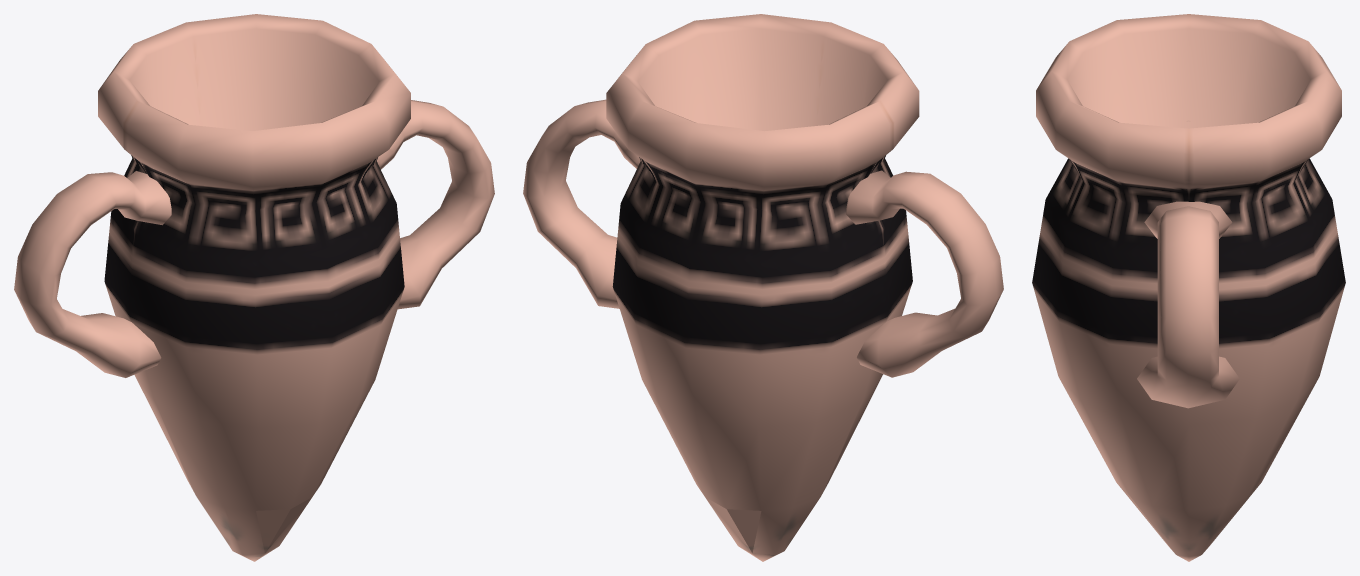
The model's file is prop_temple_jar3.fbx.
3 renders of one model, left to right at view 1: azimuth 30°, elevation 25°; view 2: azimuth 150°, elevation 25°; view 3: azimuth 270°, elevation 25°, orthographic.
Visible parts, largest first — view 1: jar3; view 2: jar3; view 3: jar3.
Boxes of the visible parts, x1=… form: jar3: x1=14, y1=14, x2=494, y2=561; jar3: x1=523, y1=14, x2=1003, y2=561; jar3: x1=1032, y1=14, x2=1345, y2=561.
Size of the model in its own units: 0.5885 by 0.5887 by 0.3411.
1 material, 1 textured.
